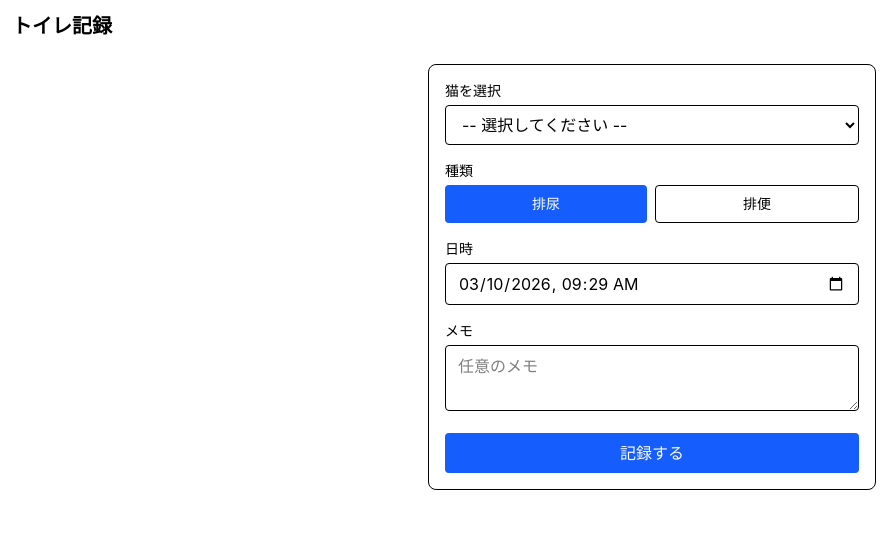
Scenario: LogsPage › should show success message after successful submission
Select "たま" in the dropdown labelled "猫を選択" at point(652, 125), box [445,105,859,145]
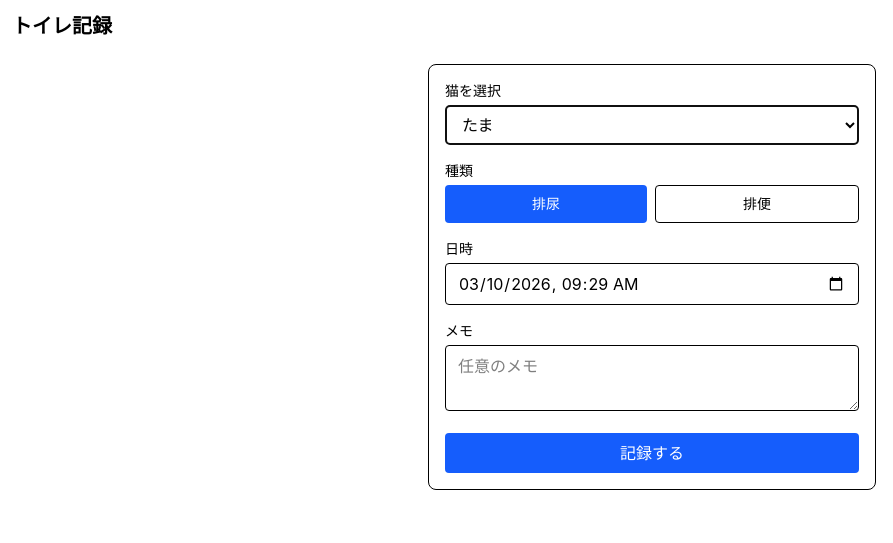
Click the button "記録する" at point(652, 453), box [445,433,859,473]
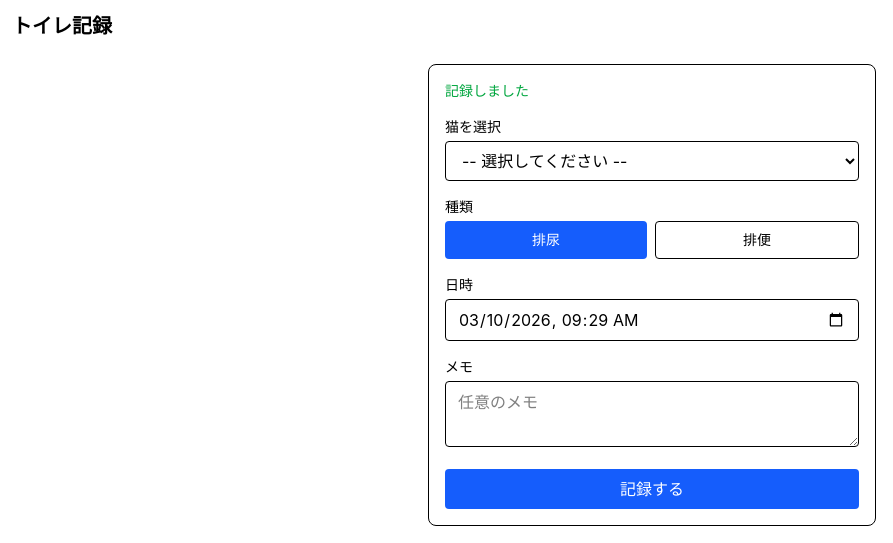
Expected: the text "記録しました" is shown, [445,82,529,99]
